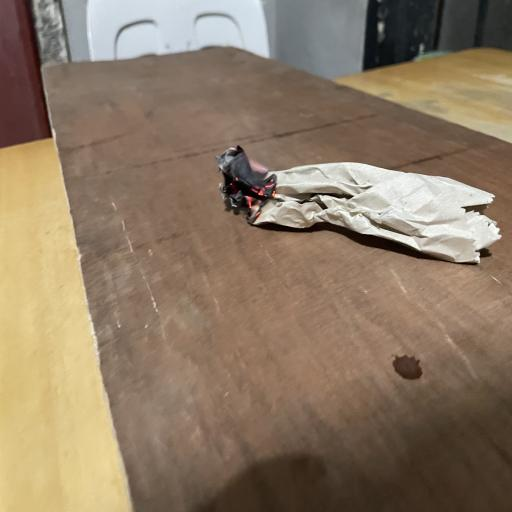fire: (195, 115, 283, 233)
